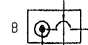Single Phase Tap-Off Unit: (25, 8, 85, 45)
